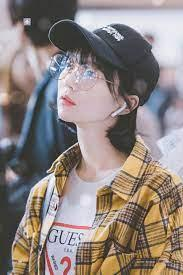earphone: (111, 100, 131, 116)
